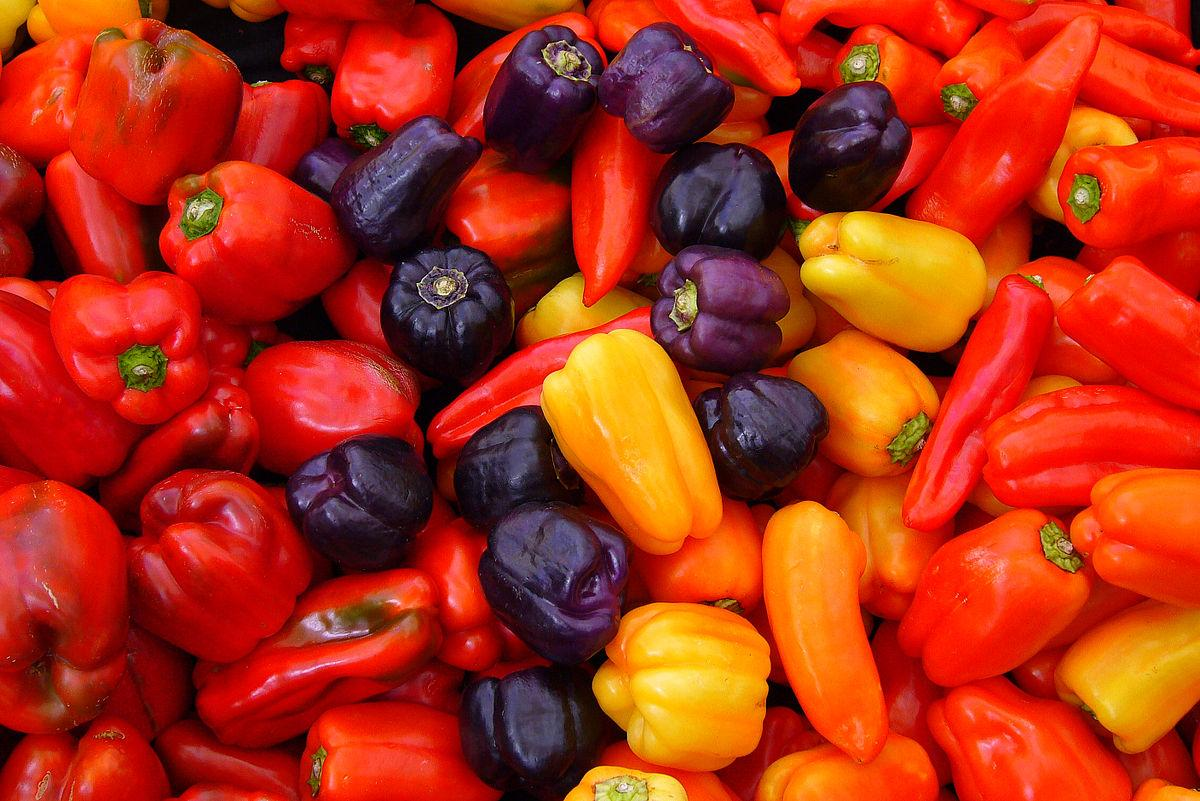capsicum: (2, 1, 1196, 799), (537, 327, 723, 555)
